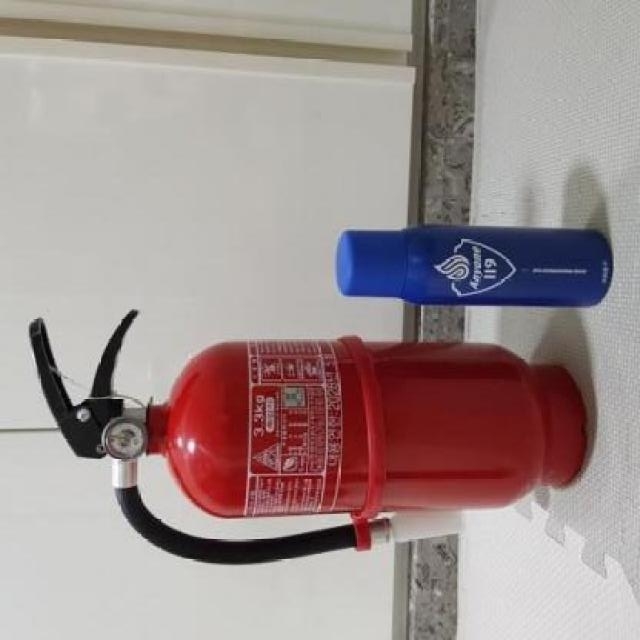fire extinguisher: (28, 308, 586, 567)
